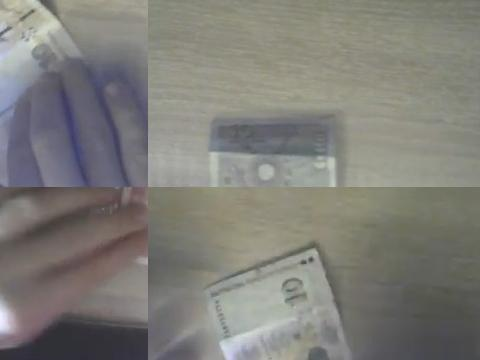10leva: (204, 243, 356, 360), (207, 120, 337, 187)
